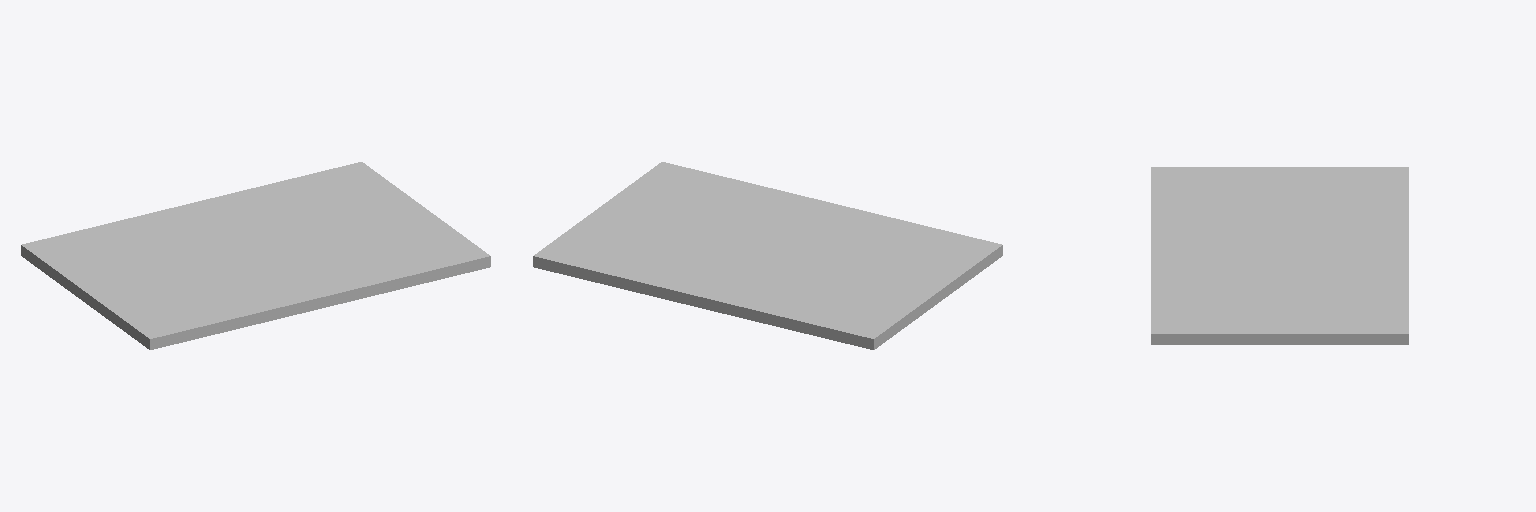
The model's file is Road.obj.
3 renders of one model, left to right at view 1: azimuth 30°, elevation 25°; view 2: azimuth 150°, elevation 25°; view 3: azimuth 270°, elevation 25°, orthographic.
Size of the model in its own units: 32 by 1 by 21.